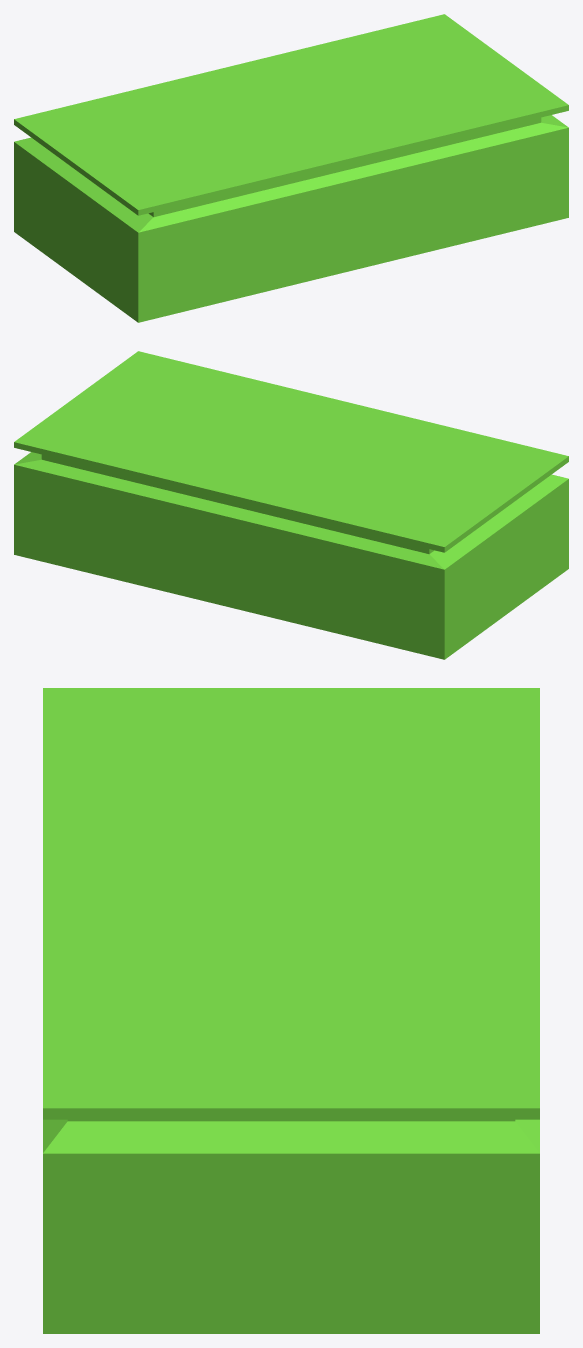
The model's file is resource_platform_claimed.glb.
The picture shows the model from 3 angles, top to bottom: view 1: azimuth 30°, elevation 25°; view 2: azimuth 150°, elevation 25°; view 3: azimuth 270°, elevation 25°; orthographic projection. The views are drawn at different scales.
Visible parts, largest first — view 1: Cube; view 2: Cube; view 3: Cube.
Boxes of the visible parts, box(x1,y1,x2,y2) form: Cube: box(14, 14, 568, 322); Cube: box(14, 351, 568, 659); Cube: box(43, 688, 539, 1333).
Size of the model in its own units: 16 by 4 by 8.
